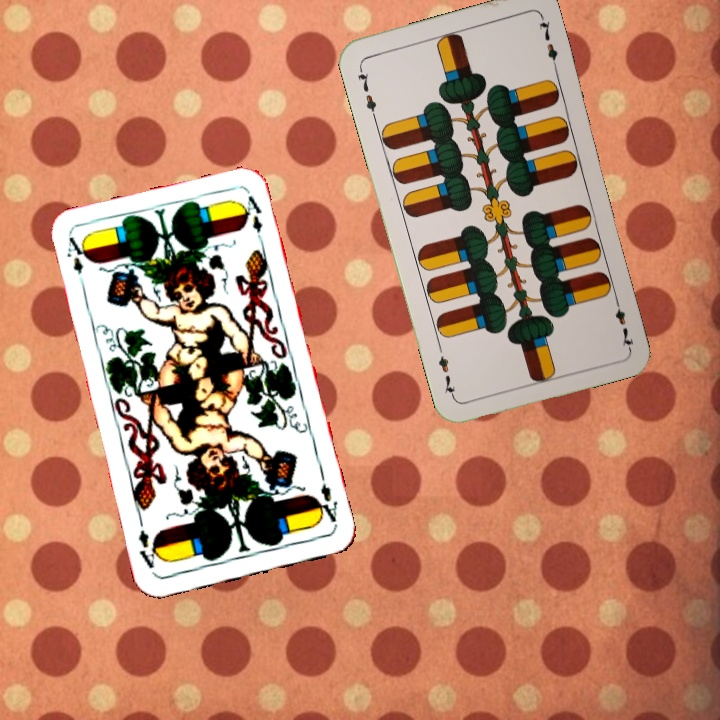E7: (353, 63, 379, 121), (610, 292, 636, 350)
EA: (62, 233, 91, 291), (312, 480, 340, 529)
